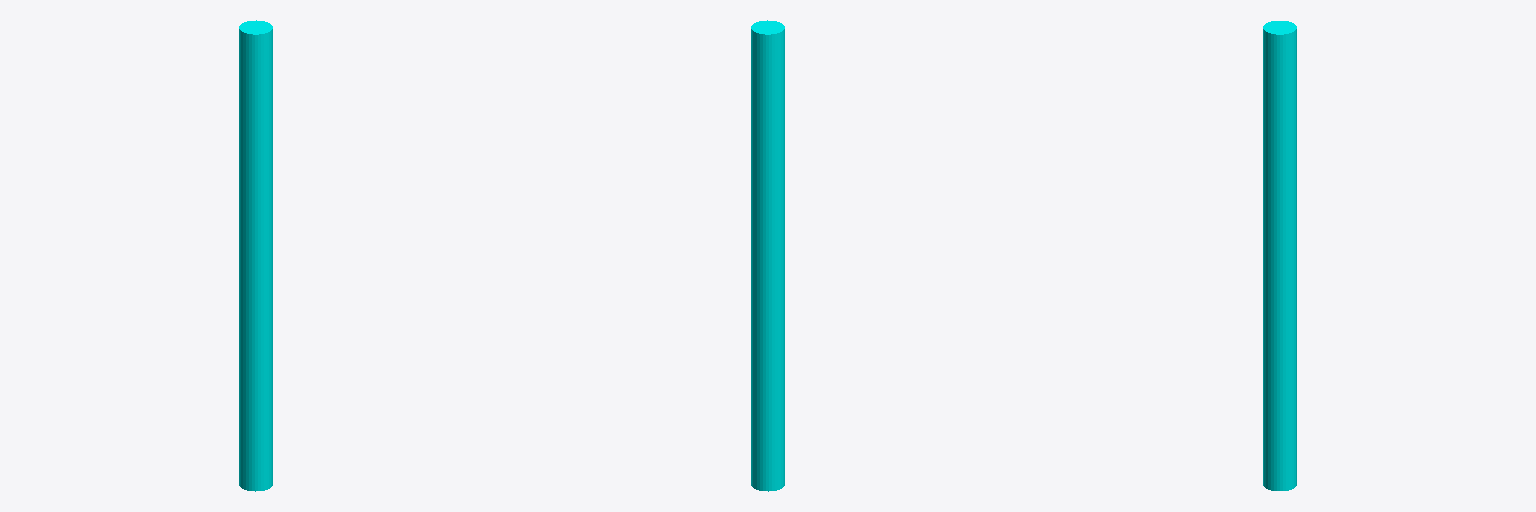
URDF robot description (four_dof_robot):
<?xml version="1.0"?>
<robot name="four_dof_robot">

  <link name="link1">
    <inertial>
      <mass value="1"/>
      <inertia ixx="0.0325" ixy="0.0" ixz="0.0" iyy="0.0325" iyz="0.0" izz="0.005"/>
      <origin xyz="0 0 0.3"/>
    </inertial>
    <visual>
      <origin xyz="0 0 0.3" rpy="0 0 0"/>
      <geometry>
        <cylinder length="0.6" radius="0.1"/>
      </geometry>
     <material name="Cyan">
       <color rgba="0 1.0 1.0 1.0"/>
     </material>
    </visual>
    <collision>
      <geometry>
        <cylinder length="0.6" radius="0.1"/>
      </geometry>
      <origin xyz="0 0 0.3"/>
    </collision>
  </link>

  <link name="link2">
    <inertial>
      <mass value="1"/>
      <inertia ixx="0.0325" ixy="0.0" ixz="0.0" iyy="0.0325" iyz="0.0" izz="0.005"/>
      <origin xyz="0 0 0.3"/>
    </inertial>
    <visual>
      <origin xyz="0 0 0.3" rpy="0 0 0"/>
      <geometry>
        <cylinder length="0.6" radius="0.1"/>
      </geometry>
     <material name="Cyan">
       <color rgba="0 1.0 1.0 1.0"/>
     </material>
    </visual>
    <collision>
      <geometry>
        <cylinder length="0.6" radius="0.1"/>
      </geometry>
      <origin xyz="0 0 0.3"/>
    </collision>
  </link>

  <link name="link3">
    <inertial>
      <mass value="1"/>
      <inertia ixx="0.0325" ixy="0.0" ixz="0.0" iyy="0.0325" iyz="0.0" izz="0.005"/>
      <origin xyz="0 0 0.3"/>
    </inertial>
    <visual>
      <origin xyz="0 0 0.3" rpy="0 0 0"/>
      <geometry>
        <cylinder length="0.6" radius="0.1"/>
      </geometry>
     <material name="Cyan">
       <color rgba="0 1.0 1.0 1.0"/>
     </material>
    </visual>
    <collision>
      <geometry>
        <cylinder length="0.6" radius="0.1"/>
      </geometry>
      <origin xyz="0 0 0.3"/>
    </collision>
  </link>

  <link name="link4">
    <inertial>
      <mass value="1"/>
      <inertia ixx="0.0325" ixy="0.0" ixz="0.0" iyy="0.0325" iyz="0.0" izz="0.005"/>
      <origin xyz="0 0 0.3"/>
    </inertial>
    <visual>
      <origin xyz="0 0 0.3" rpy="0 0 0"/>
      <geometry>
        <cylinder length="0.6" radius="0.1"/>
      </geometry>
     <material name="Cyan">
       <color rgba="0 1.0 1.0 1.0"/>
     </material>
    </visual>
    <collision>
      <geometry>
        <cylinder length="0.6" radius="0.1"/>
      </geometry>
      <origin xyz="0 0 0.3"/>
    </collision>
  </link>

  <link name="link5">
    <inertial>
      <mass value="1"/>
      <inertia ixx="0.0325" ixy="0.0" ixz="0.0" iyy="0.0325" iyz="0.0" izz="0.005"/>
      <origin xyz="0 0 0.3"/>
    </inertial>
    <visual>
      <origin xyz="0 0 0.3" rpy="0 0 0"/>
      <geometry>
        <cylinder length="0.6" radius="0.1"/>
      </geometry>
     <material name="Cyan">
       <color rgba="0 1.0 1.0 1.0"/>
     </material>
    </visual>
    <collision>
      <geometry>
        <cylinder length="0.6" radius="0.1"/>
      </geometry>
      <origin xyz="0 0 0.3"/>
    </collision>
  </link>

  <joint name="joint1" type="revolute">
    <parent link="link1"/>
    <child link="link2"/>
    <origin xyz="0 0 0.6" rpy="0 0 0"/>
    <limit effort="30" velocity="1.0" lower="-1.5708" upper="1.5708" />
  </joint>

  <joint name="joint2" type="revolute">
    <parent link="link2"/>
    <child link="link3"/>
    <origin xyz="0 0 0.6" rpy="0 0 0"/>
    <limit effort="30" velocity="1.0" lower="-1.5708" upper="1.5708" />
  </joint>

  <joint name="joint3" type="revolute">
    <parent link="link3"/>
    <child link="link4"/>
    <origin xyz="0 0 0.6" rpy="0 0 0"/>
    <limit effort="30" velocity="1.0" lower="-1.5708" upper="1.5708" />
  </joint>

  <joint name="joint4" type="revolute">
    <parent link="link4"/>
    <child link="link5"/>
    <origin xyz="0 0 0.6" rpy="0 0 0"/>
    <limit effort="30" velocity="1.0" lower="-1.5708" upper="1.5708" />
  </joint>

  <transmission name="joint1_transmission" type="SimpleTransmission">
    <joint name="joint1"/>
    <actuator name="joint1"/>
  </transmission>

  <transmission name="joint2_transmission" type="SimpleTransmission">
    <joint name="joint2"/>
    <actuator name="joint2"/>
  </transmission>

  <transmission name="joint3_transmission" type="SimpleTransmission">
    <joint name="joint3"/>
    <actuator name="joint3"/>
  </transmission>

  <transmission name="joint4_transmission" type="SimpleTransmission">
    <joint name="joint4"/>
    <actuator name="joint4"/>
  </transmission>
</robot>

--- Facts derived from the render (not from the file) ---
Views: 3 orthographic renders of the robot side by side, from view 1: azimuth 30°, elevation 25°; view 2: azimuth 150°, elevation 25°; view 3: azimuth 270°, elevation 25°.
Model four_dof_robot with 5 links and 4 joints (4 revolute), rooted at link1, posed every joint at zero.
Visible links, largest first — view 1: link5, link3, link2, link1, link4; view 2: link5, link3, link2, link1, link4; view 3: link5, link2, link3, link4, link1.
Boxes of the visible links, left/top/right/bottom form: link5: left=239, top=20, right=272, bottom=125; link3: left=239, top=211, right=272, bottom=308; link2: left=239, top=303, right=272, bottom=399; link1: left=239, top=394, right=272, bottom=491; link4: left=239, top=120, right=272, bottom=216; link5: left=751, top=20, right=784, bottom=125; link3: left=751, top=211, right=784, bottom=308; link2: left=751, top=303, right=784, bottom=399; link1: left=751, top=394, right=784, bottom=491; link4: left=751, top=120, right=784, bottom=216; link5: left=1263, top=21, right=1296, bottom=125; link2: left=1263, top=303, right=1296, bottom=399; link3: left=1263, top=212, right=1296, bottom=308; link4: left=1263, top=120, right=1296, bottom=216; link1: left=1263, top=394, right=1296, bottom=490.
Bounding box of the posed robot: 0.2 × 0.2 × 3 m (x, y, z).
Geometry: primitives only (box / cylinder / sphere), no mesh files.